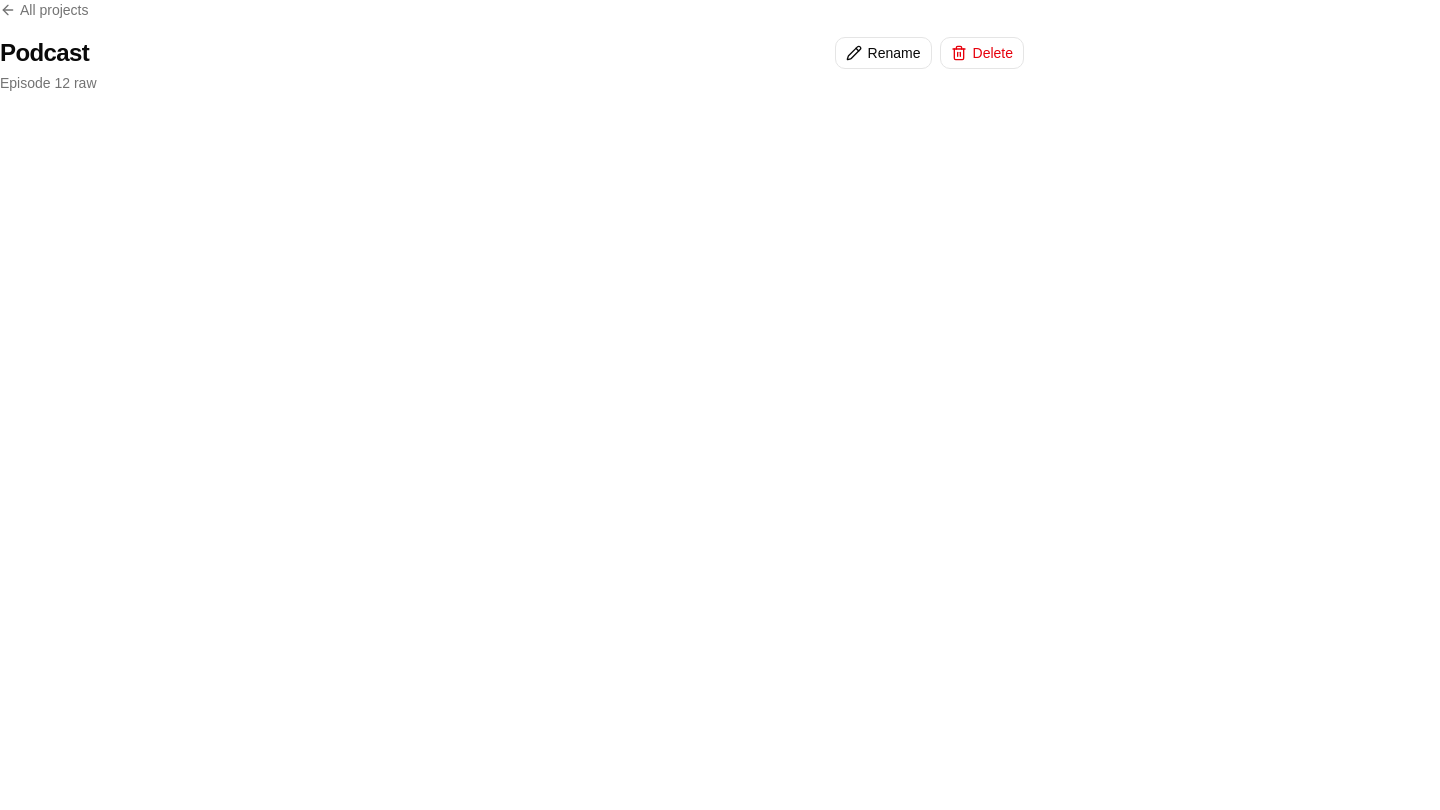
ProjectPage › deletes after confirmation and returns to the project list
The width and height of the screenshot is (1440, 810).
Later steps or results of the test are not shown.
Click the button "Delete": (982, 53) [940,37,1024,69]
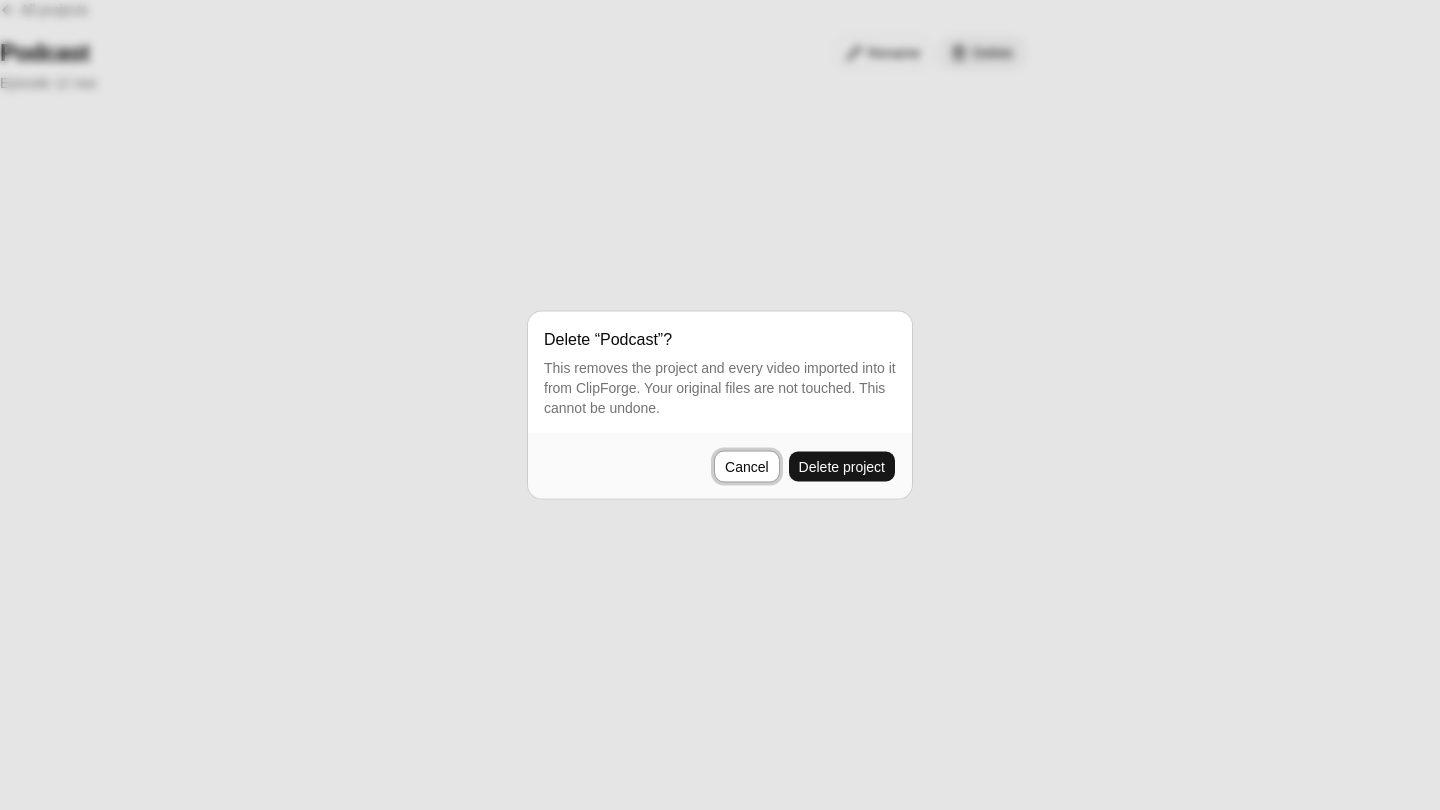
Now the dialog shows "Delete “Podcast”?", box [528,312,912,498]
